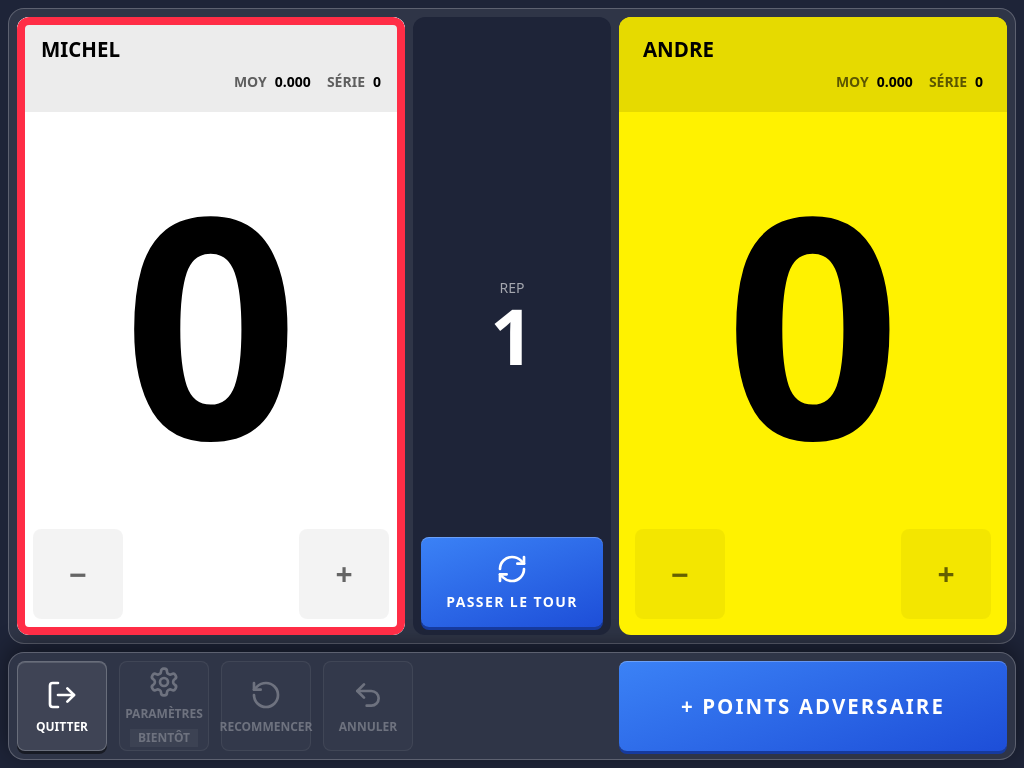
Test: GameView — annulation › brings the game one action back on ANNULER
Press the mouse on the button with test id "add-points-button": (813, 706) [619,661,1007,751]
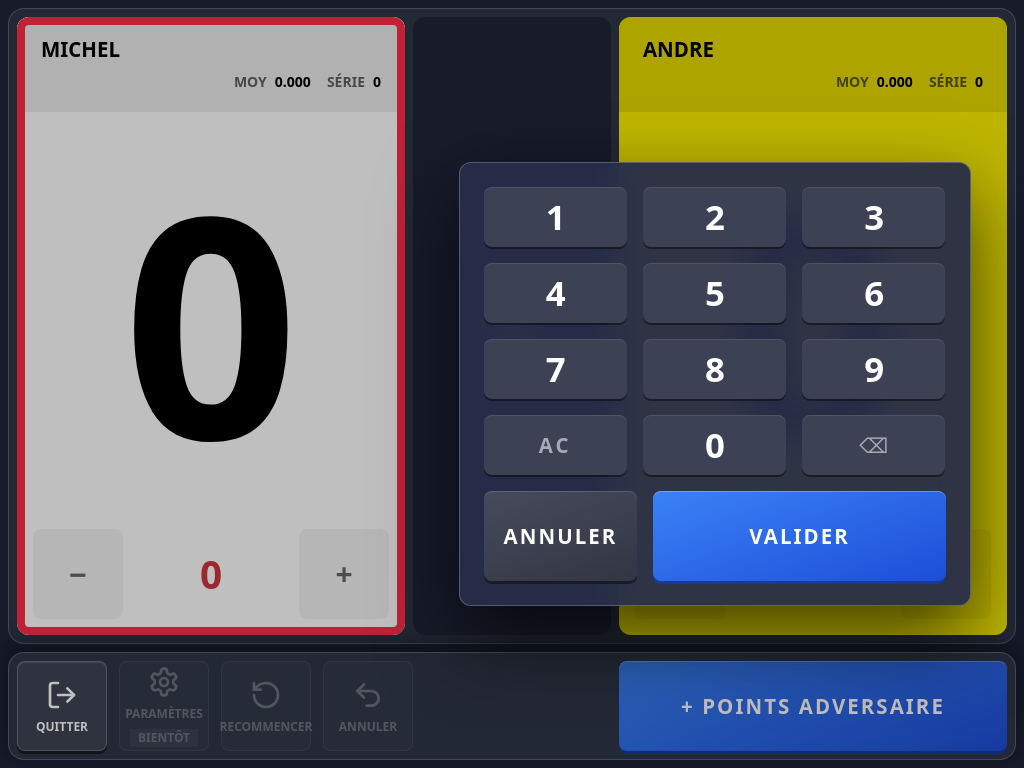
Press the mouse on the button with test id "digit-1": (555, 217) [484,187,627,247]
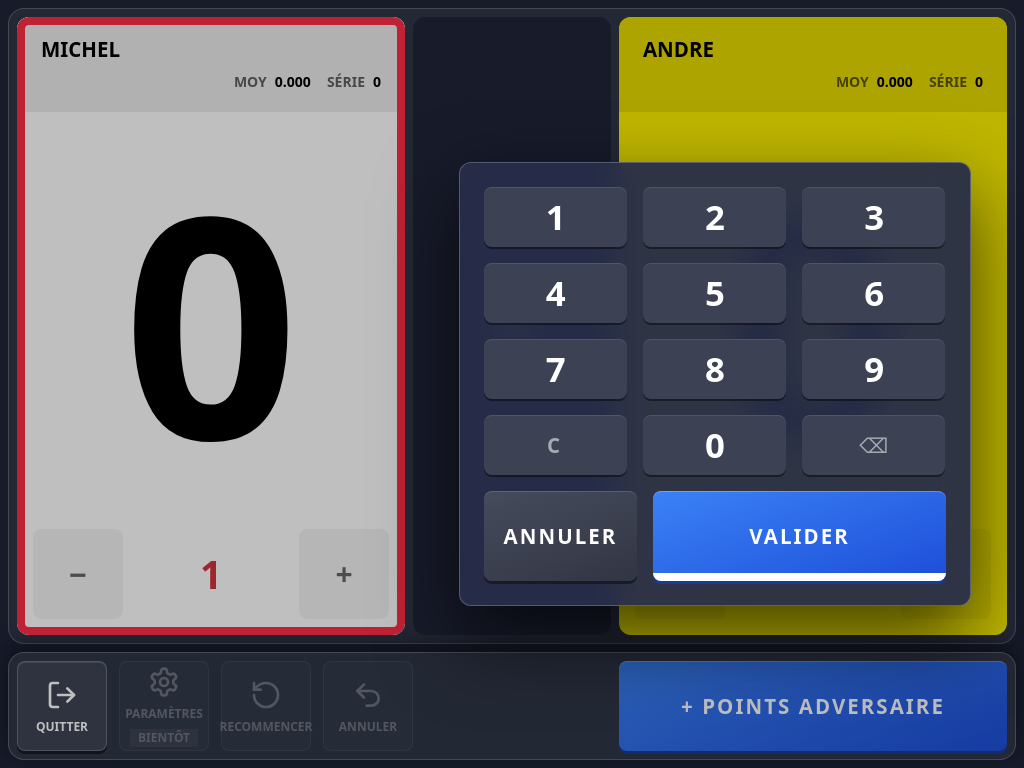
Press the mouse on the button with test id "digit-2": (714, 217) [643,187,786,247]
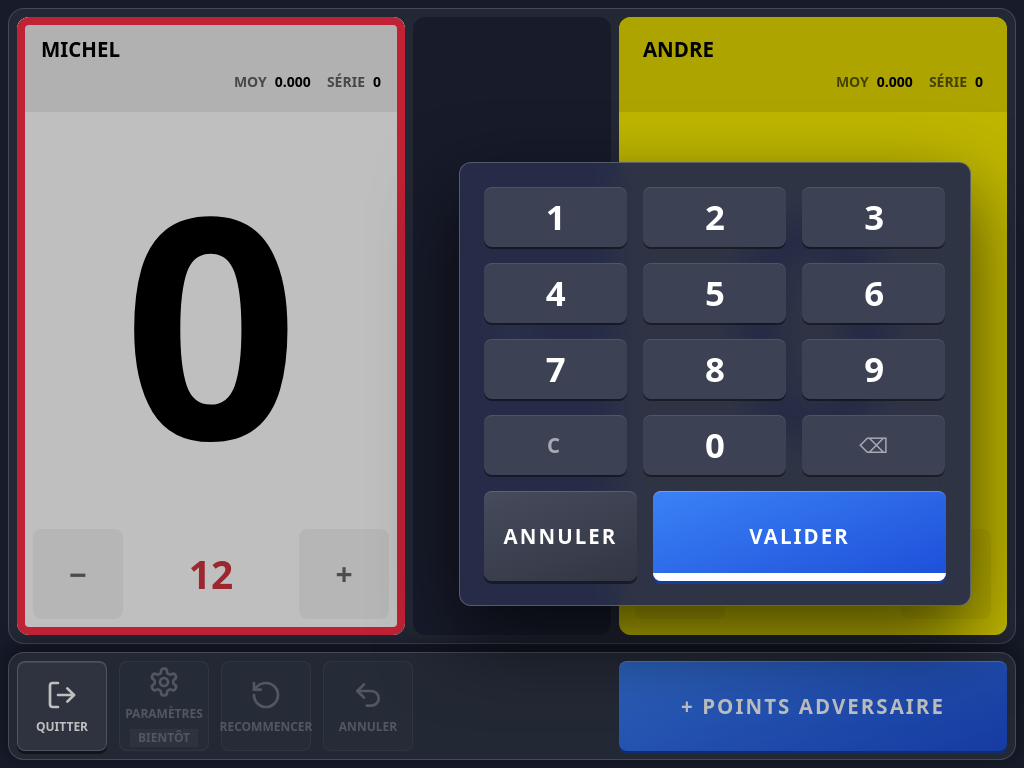
Press the mouse on the button with test id "entry-confirm-button": (800, 536) [654,491,946,581]
Wait 300 ms
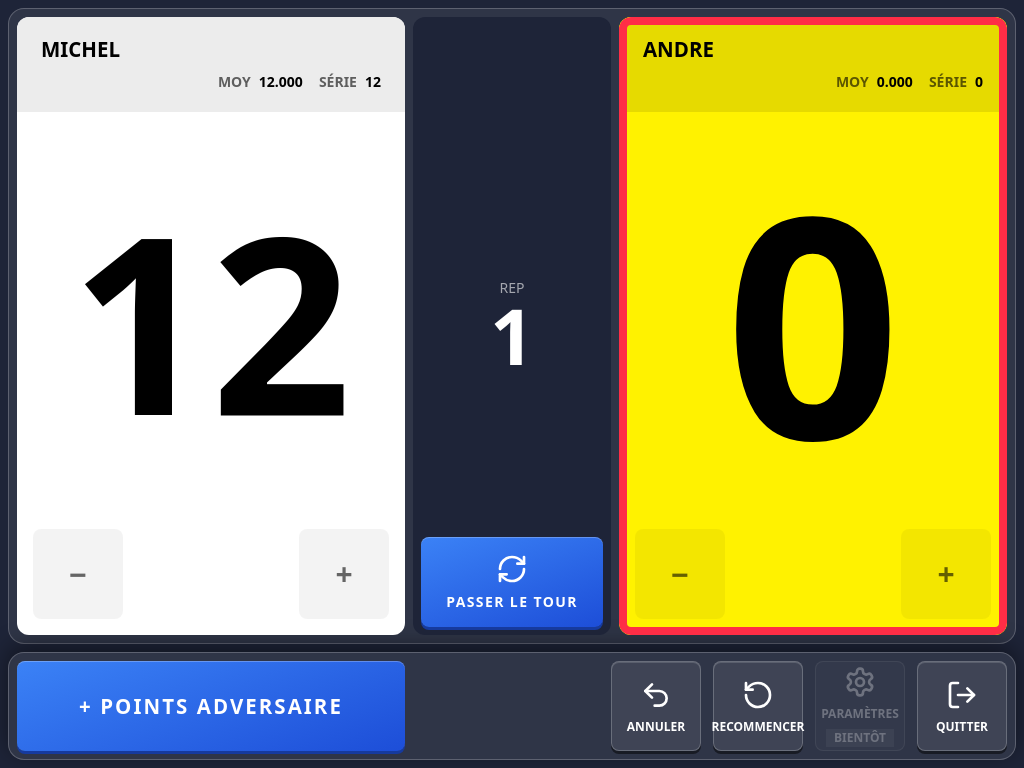
Now the button with test id "undo-button" is enabled
Press the mouse on the button with test id "undo-button": (656, 706) [611,661,701,751]
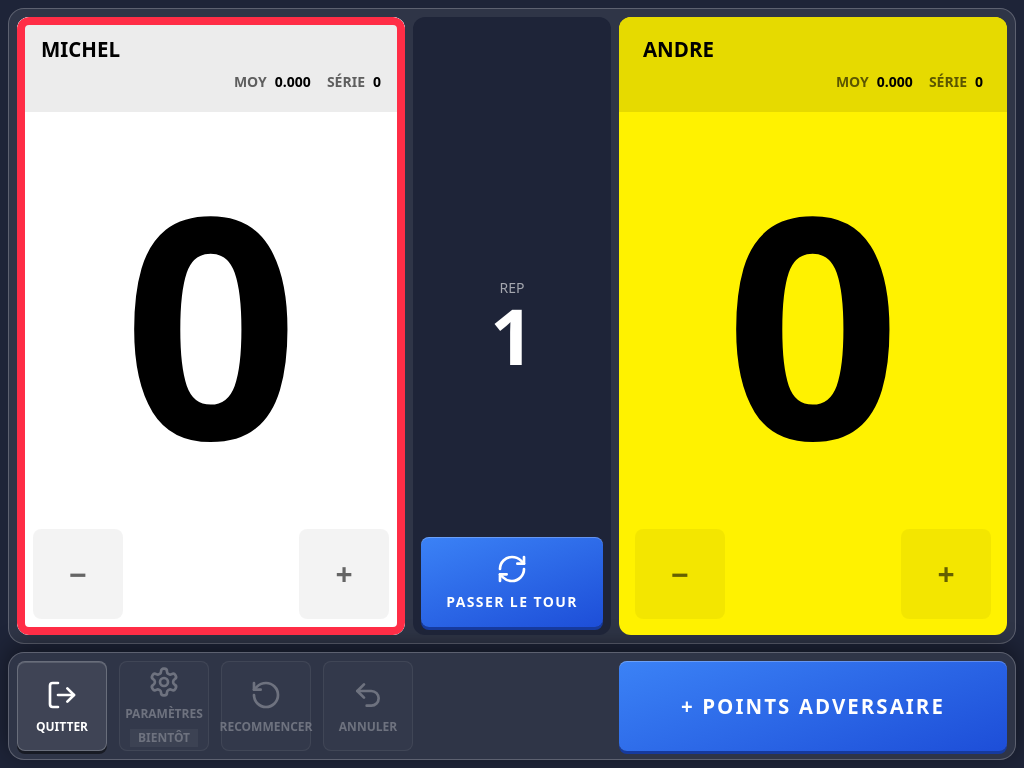
Expected: the element with test id "turn-ring" is shown, [17,17,405,635]
Now the button with test id "undo-button" is disabled, box [323,661,413,751]
